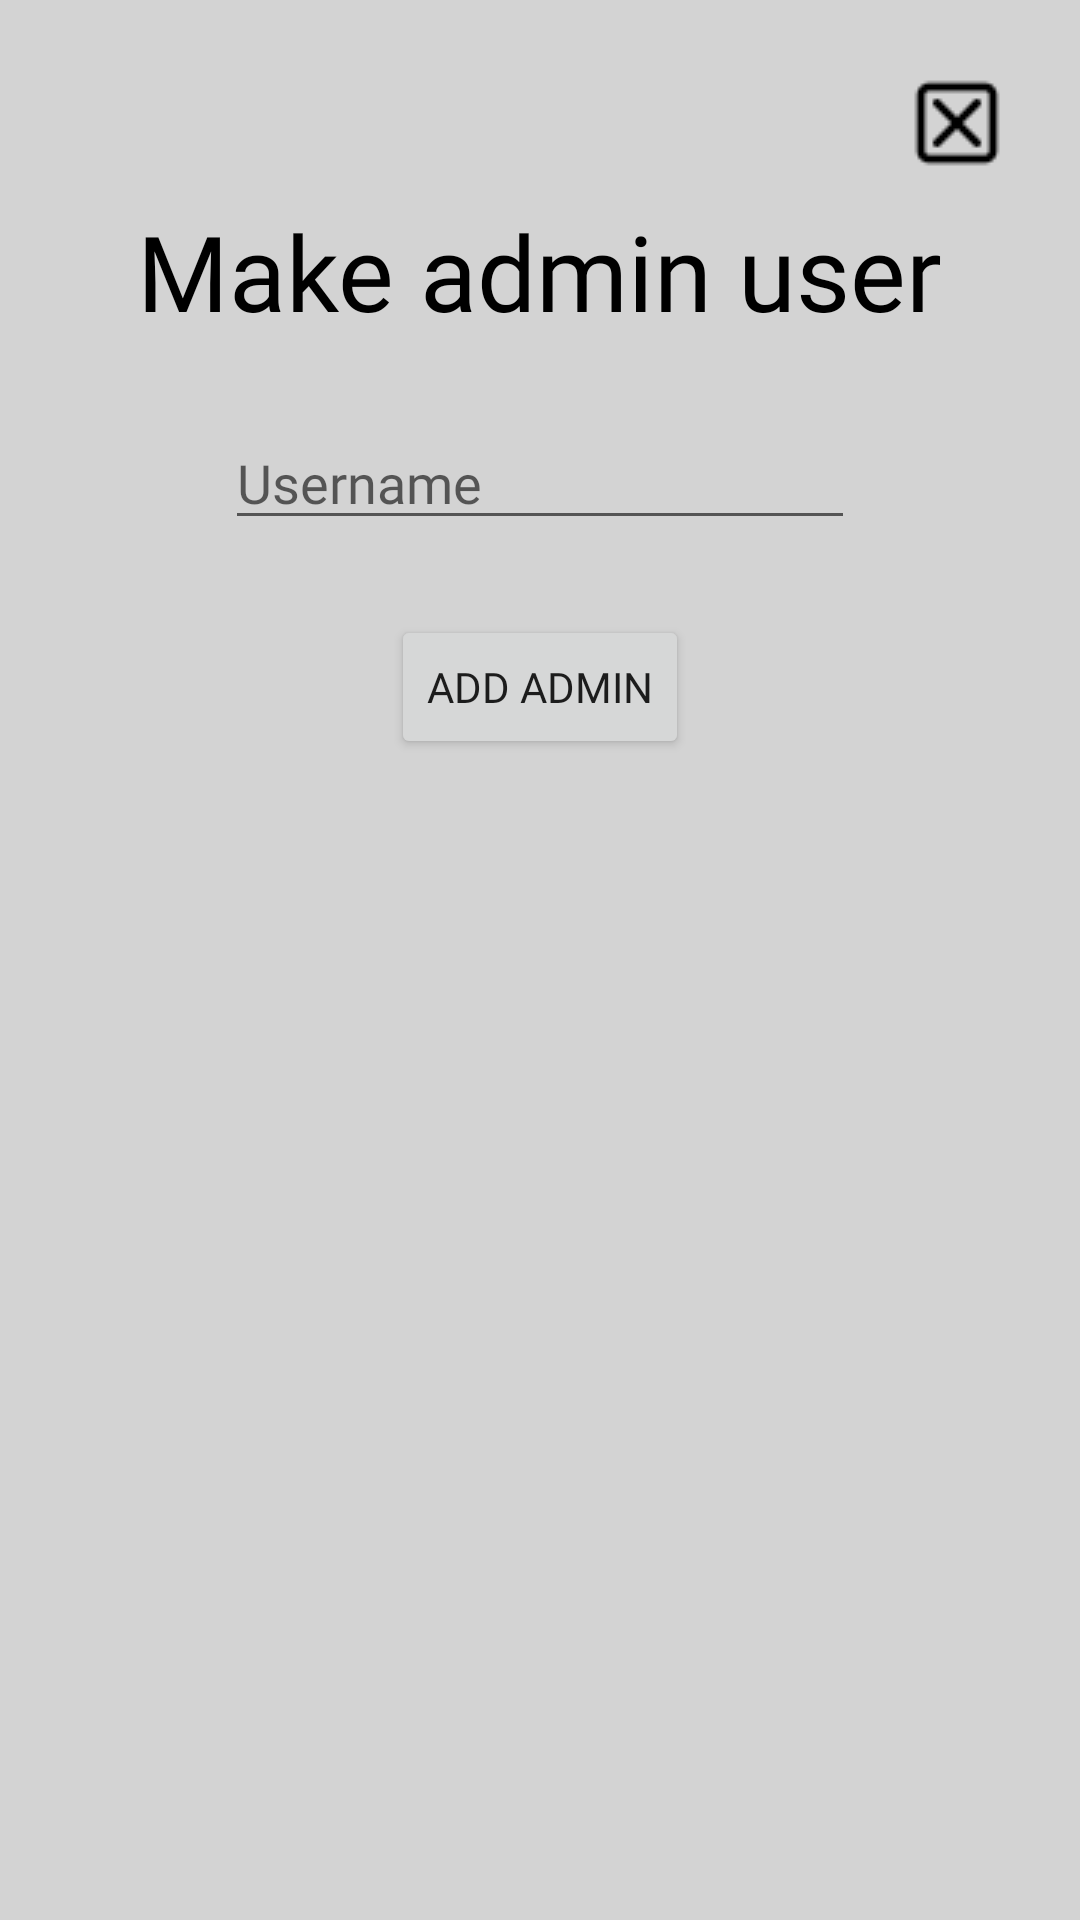

Where icons sit on this 1080 × 1920 app screen, as [x1=x1, y1=y1, x2=x2, y2=y2]:
close window: [x1=915, y1=81, x2=999, y2=165]
